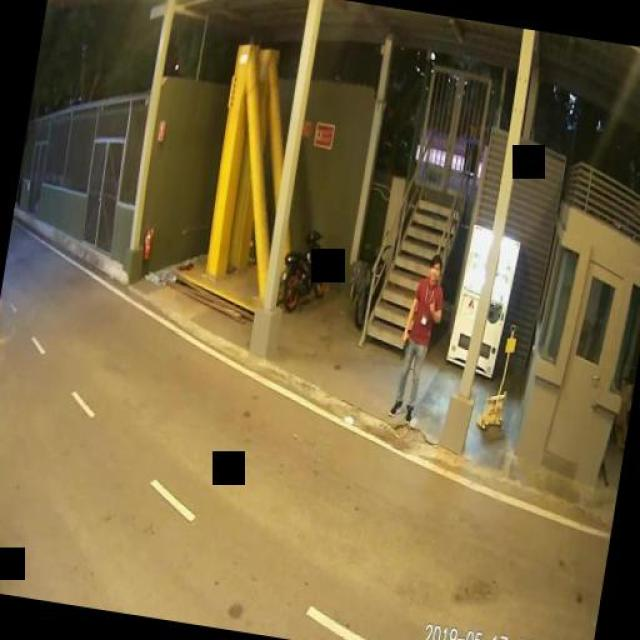gun: (398, 327, 408, 355)
